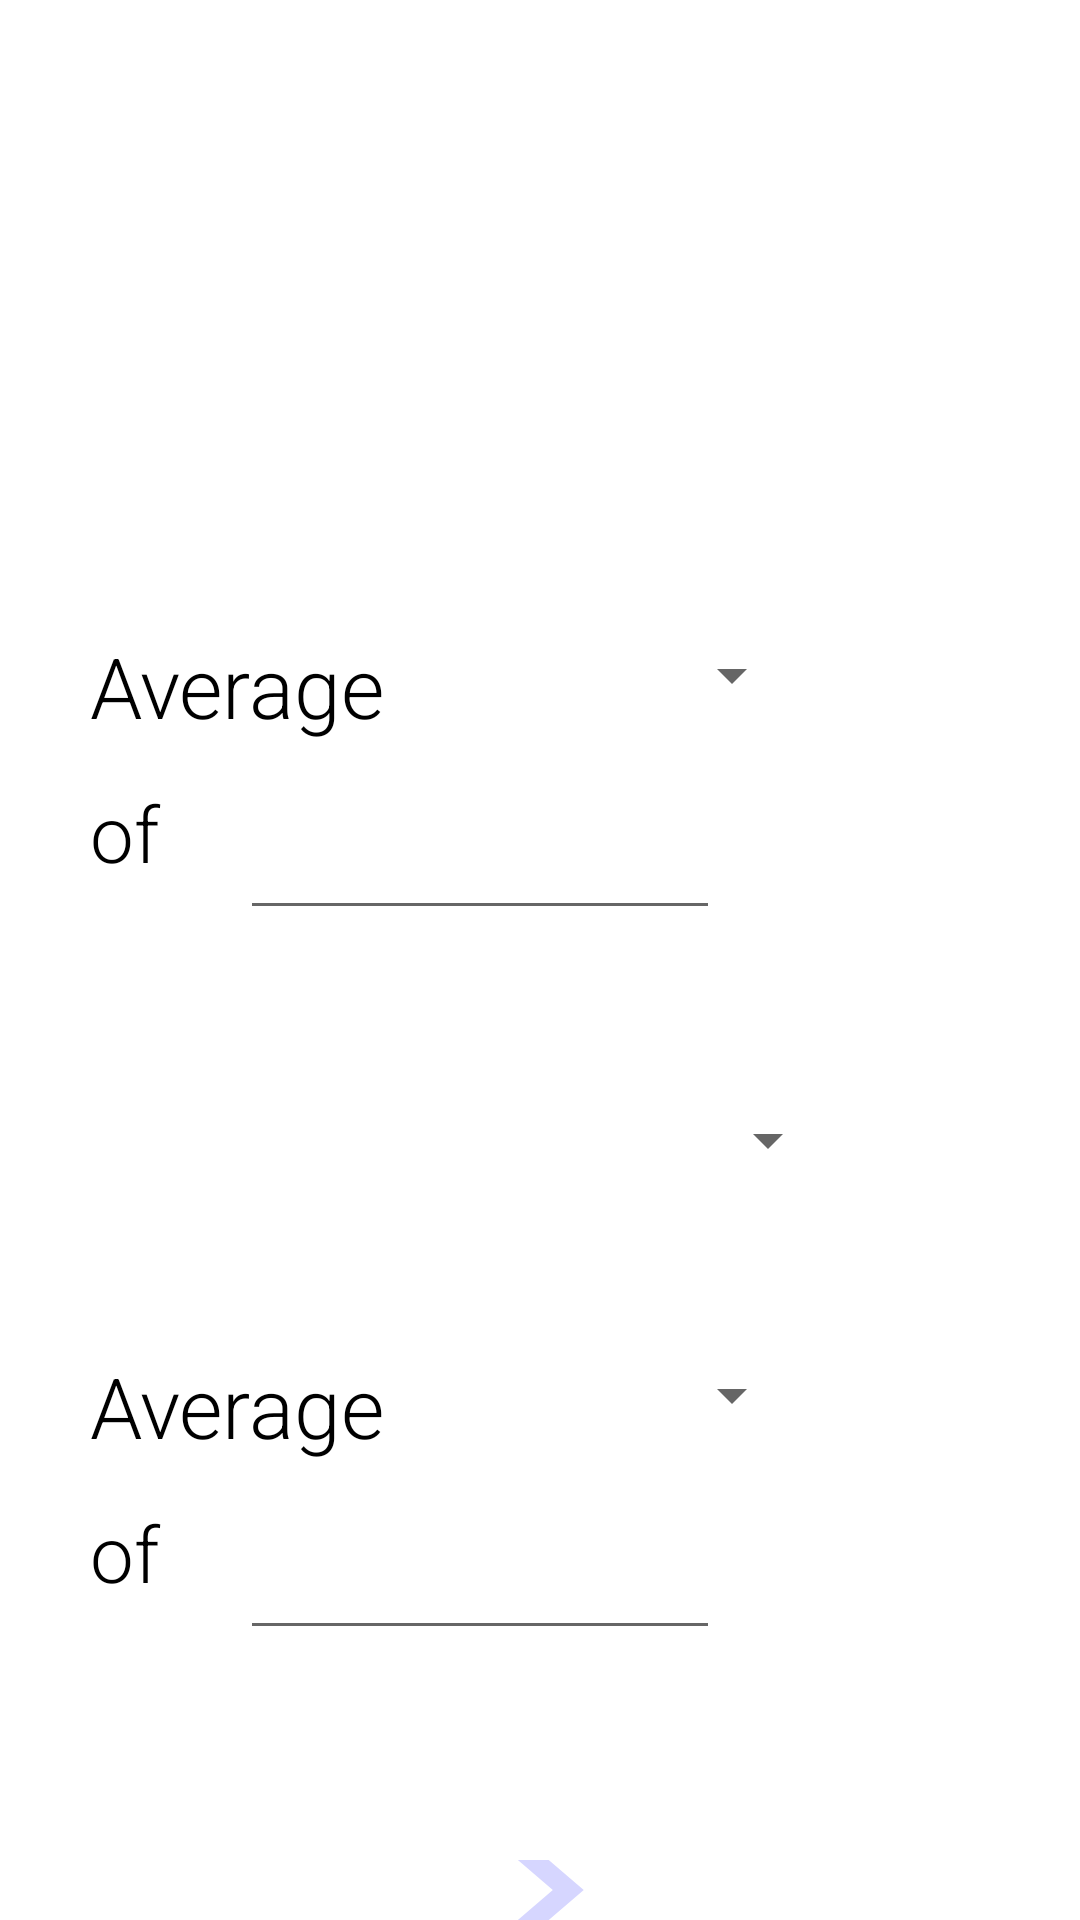

Screen size 1080x1920. Icon name, then its center in pixels as point (x, y):
nextppart: point (551, 1890)
